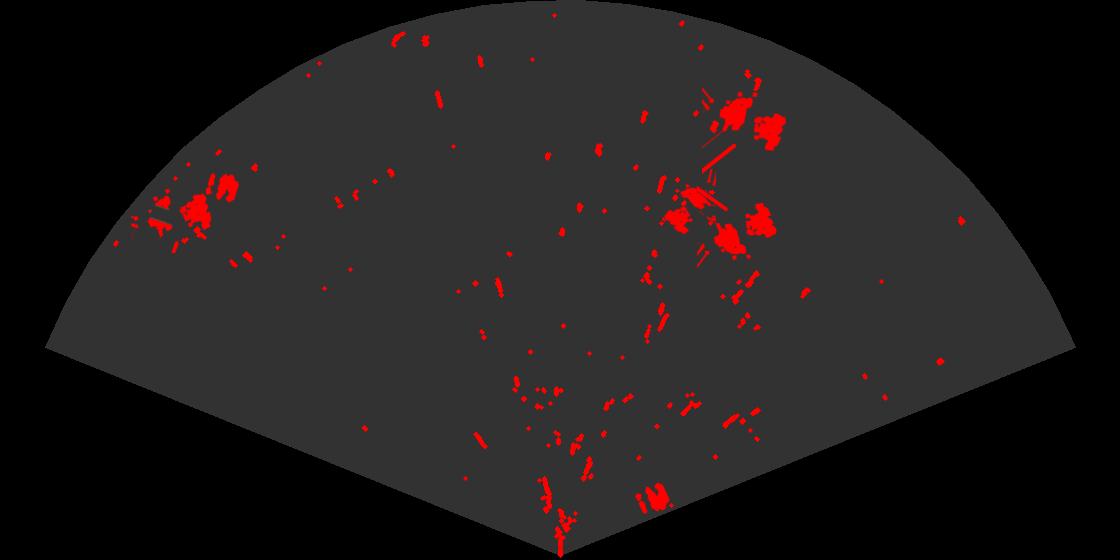ball: (634, 481, 671, 515), (204, 171, 241, 204)
cage: (702, 85, 788, 174), (697, 185, 778, 269), (131, 187, 213, 253), (663, 169, 716, 236)
